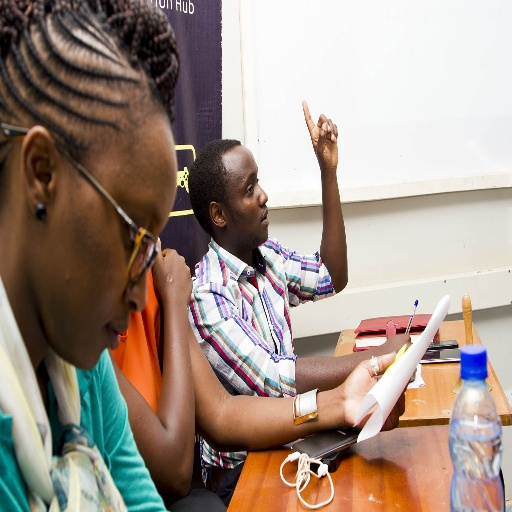hand: (342, 349, 404, 434), (150, 234, 193, 309), (308, 103, 346, 174), (383, 330, 416, 383)
